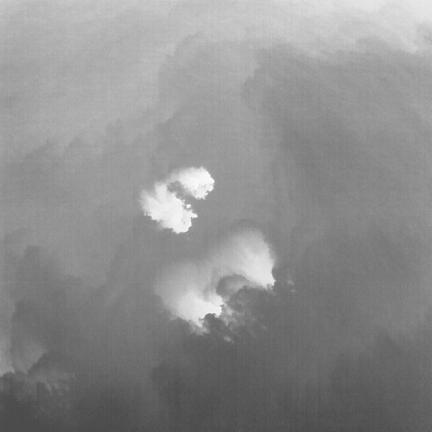flukeprints: (141, 183, 196, 233), (167, 167, 214, 198), (178, 291, 221, 322)
